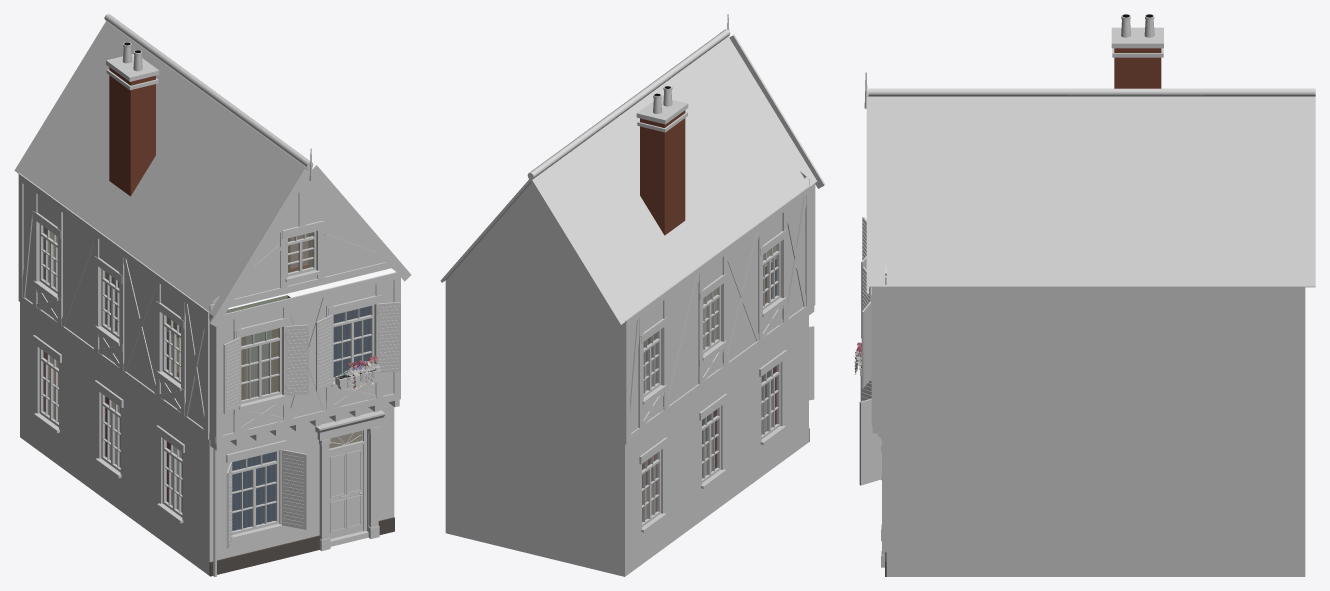
Rendered from StraightEnd_Outer5.glb.
The picture shows the model from 3 angles, left to right: view 1: azimuth 30°, elevation 25°; view 2: azimuth 150°, elevation 25°; view 3: azimuth 270°, elevation 25°; orthographic projection. The views are drawn at different scales.
Parts seen in each view (by area): view 1: StraightEnd_Outer5; view 2: StraightEnd_Outer5; view 3: StraightEnd_Outer5.
Boxes of the visible parts, left/top/right/bottom form: StraightEnd_Outer5: left=14, top=14, right=411, bottom=576; StraightEnd_Outer5: left=440, top=14, right=825, bottom=576; StraightEnd_Outer5: left=854, top=14, right=1315, bottom=576.
Bounding box in the file's own units: 4.9 × 10.15 × 8.82.
